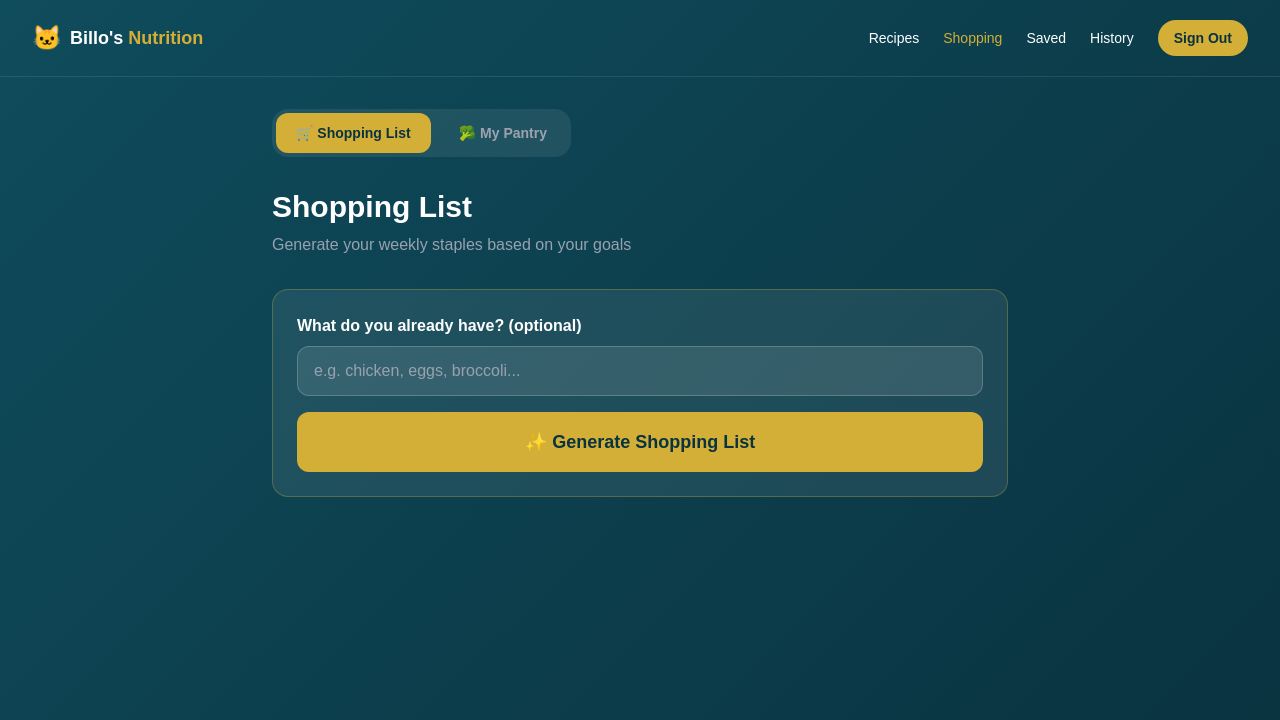
Test case: ShoppingPage — Shopping tab › generates list for logged-in user
Click the button "✨ Generate Shopping List": (640, 442) [297, 412, 983, 472]
(page scrolled)
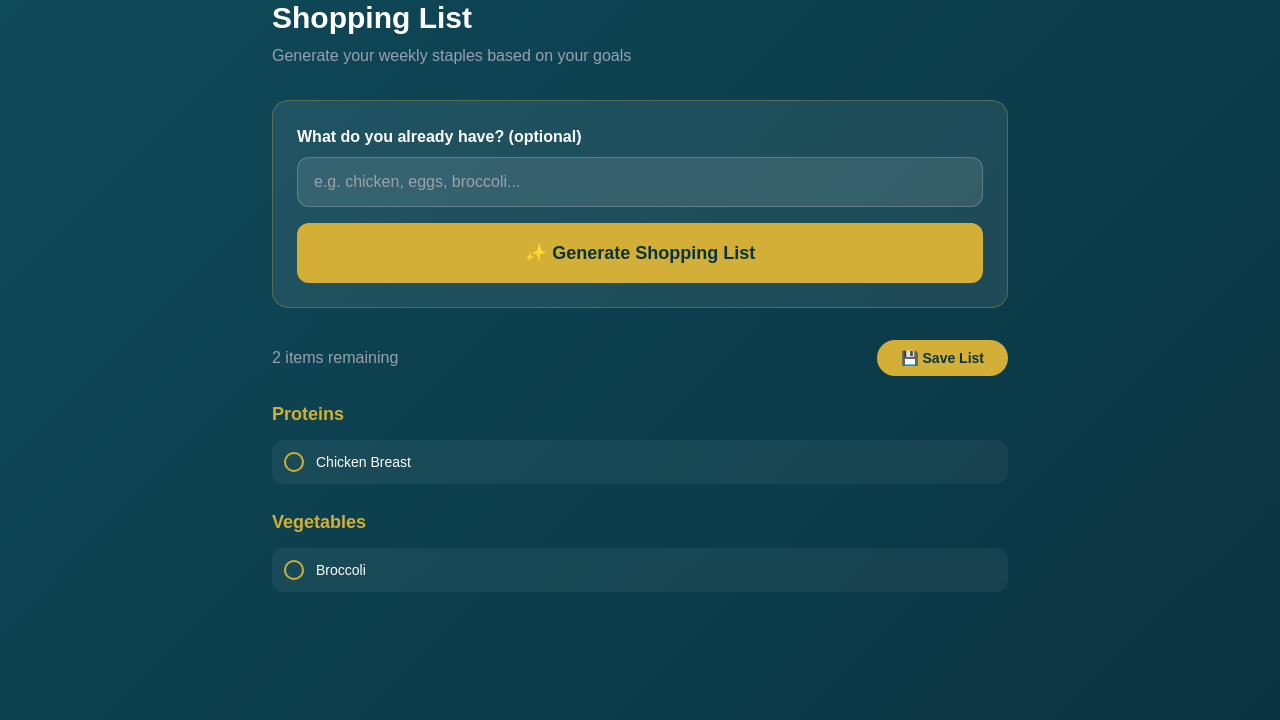
expect the text "Chicken Breast" is shown: met, box [316, 452, 411, 472]
expect the text "Broccoli" is shown: met, box [316, 560, 366, 580]
